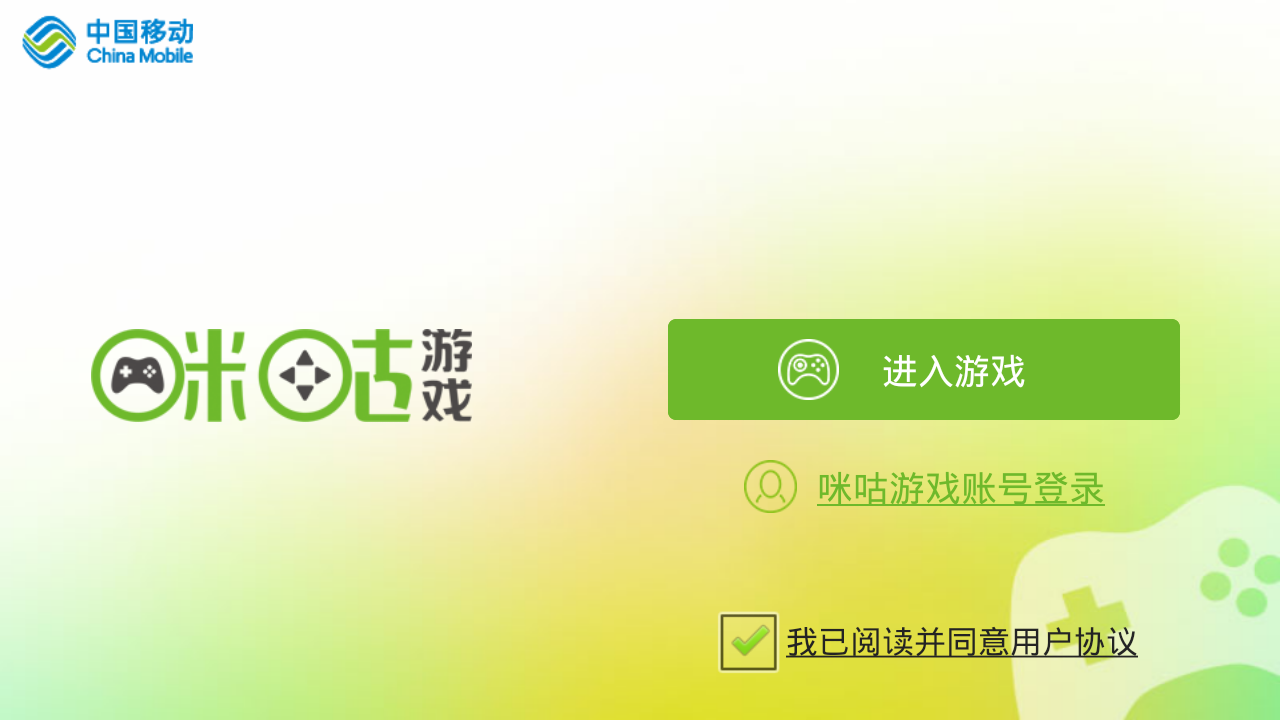button: (660, 314, 1184, 431)
checkbox: (711, 609, 1140, 678)
textview: (813, 459, 1114, 515)
